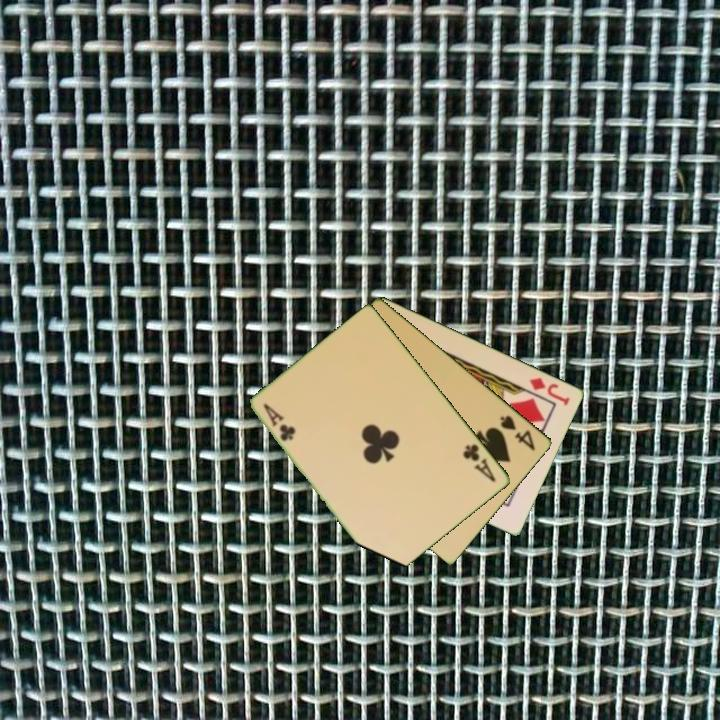4s: (497, 412, 539, 454)
Ac: (459, 440, 499, 485), (260, 399, 299, 444)
Jd: (526, 374, 573, 408)
